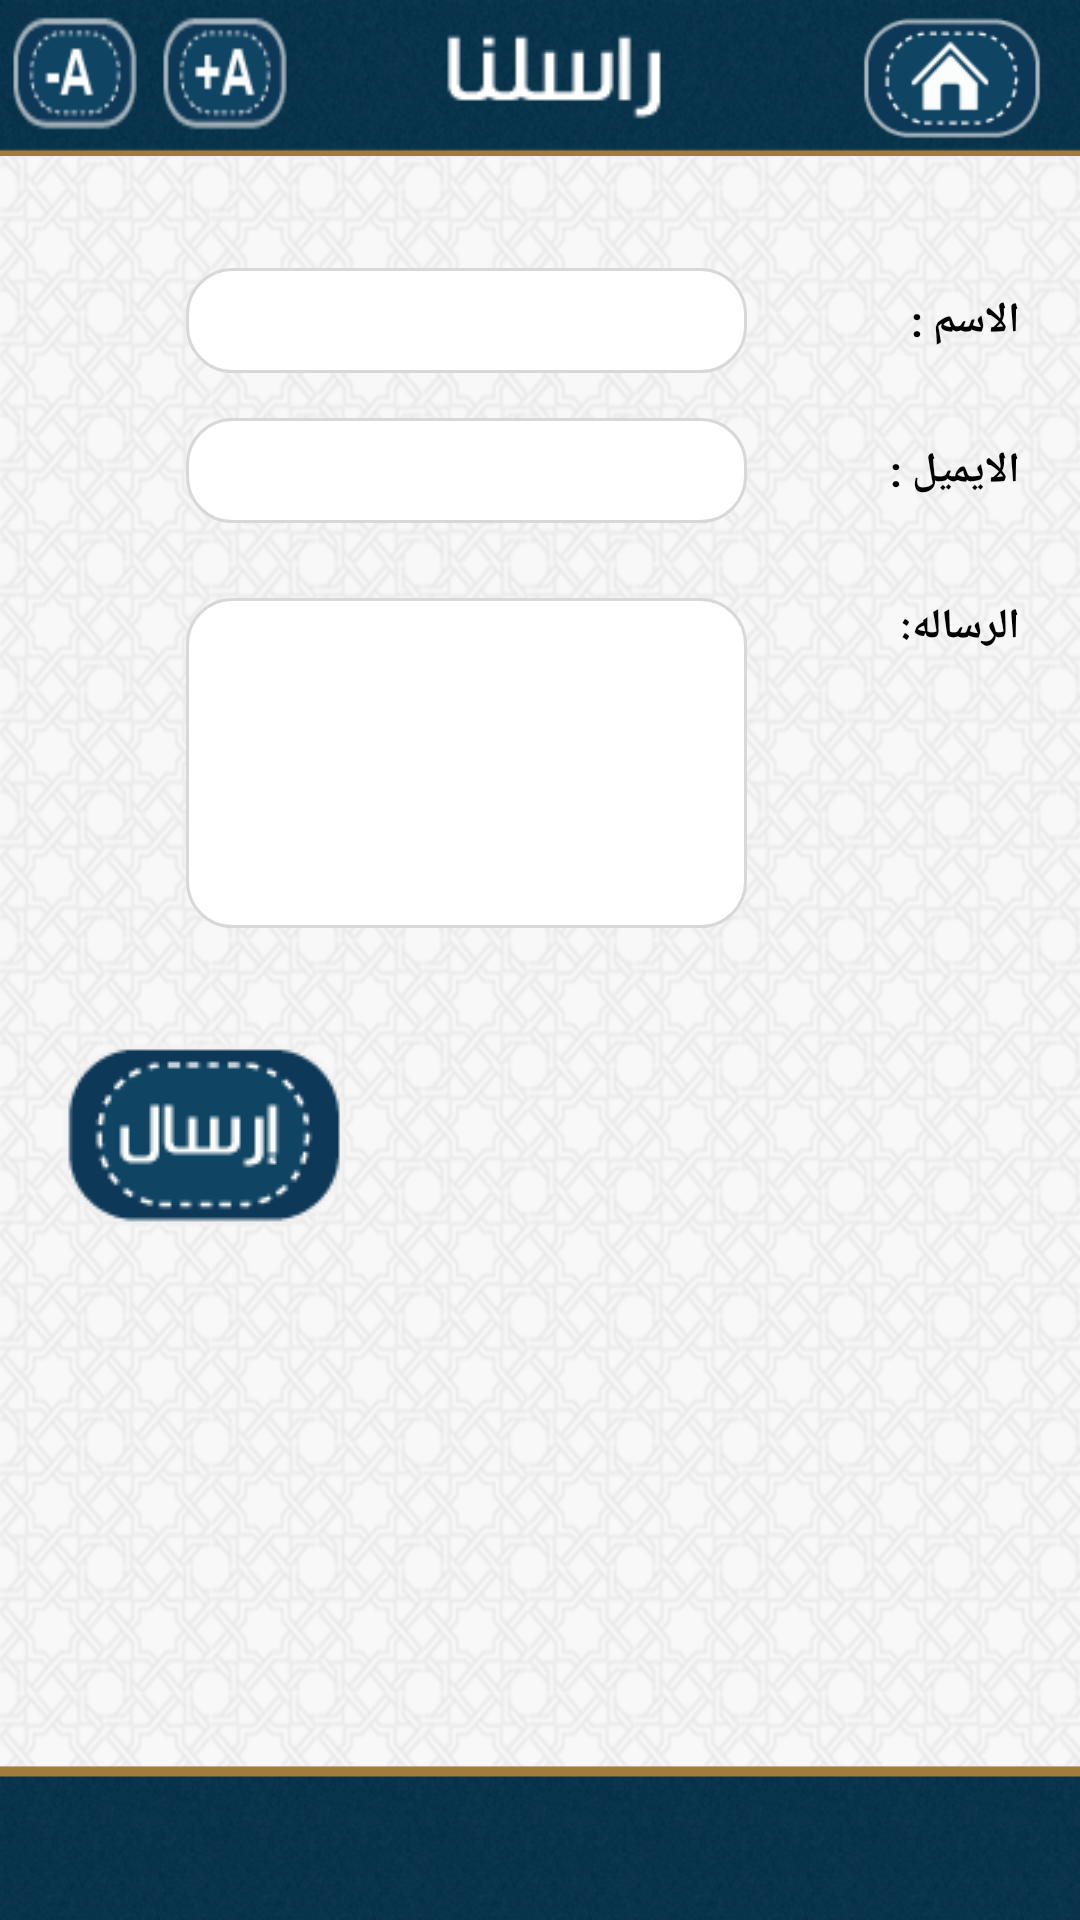

Where icons sit on this 1080 × 1920 app screen, as (x1, y1, x2, y2):
home: (863, 17, 1041, 139)
